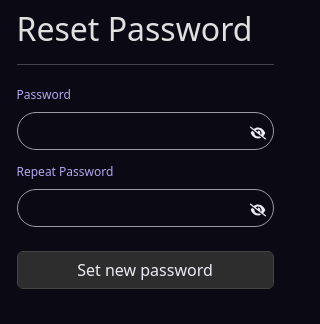
Test case: ForgotPasswordPage Component › shows error for invalid password format
Type "invalid" into the password field labelled "Password" at (145, 131), box [16,112,274,150]
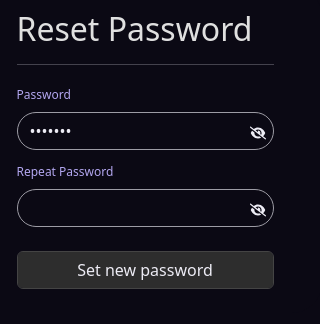
Type "invalid" into the password field labelled "Repeat Password" at (145, 208), box [16,189,274,227]
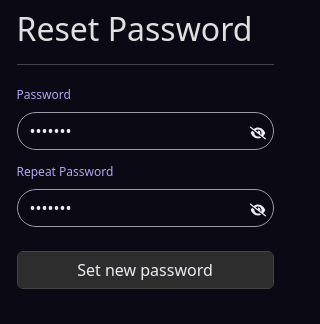
Click the button "Set new password" at (145, 270), box [16,251,274,289]
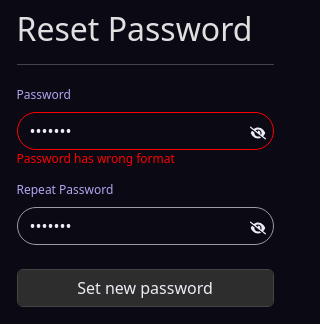
Check: the text "Password has wrong format" is shown, box [16,150,175,167]
